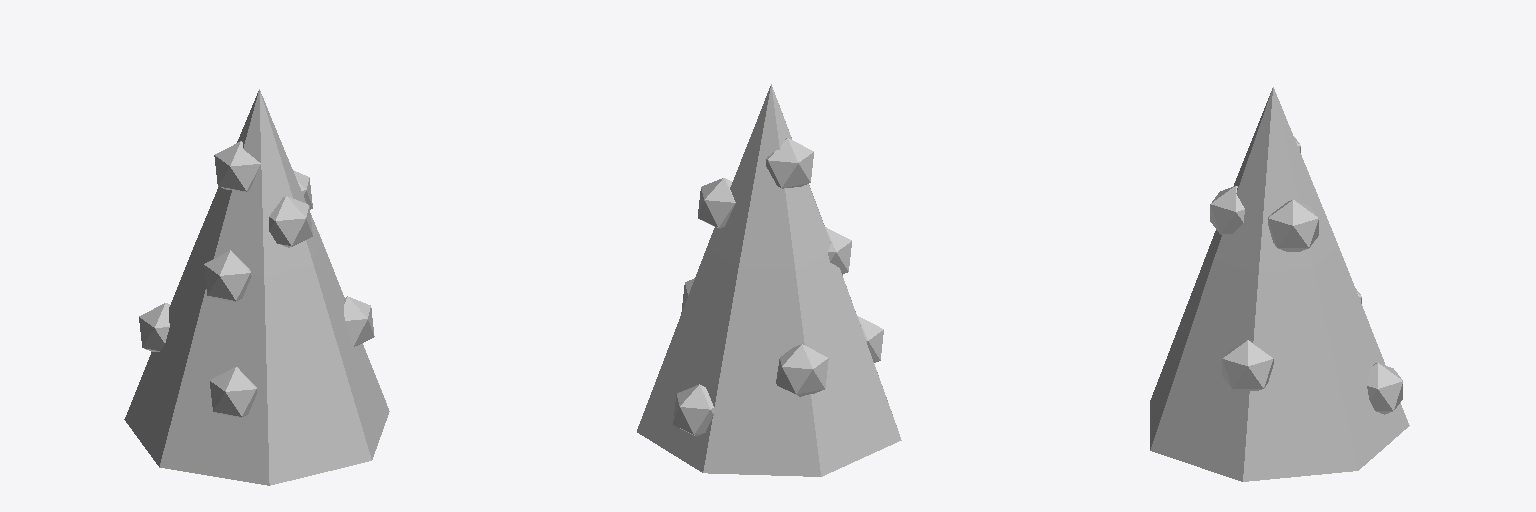
The model's file is Titanium.obj.
3 views of the same model, side by side, from view 1: azimuth 30°, elevation 25°; view 2: azimuth 150°, elevation 25°; view 3: azimuth 270°, elevation 25° (orthographic).
Visible parts, largest first — view 1: Circle, Icosphere.007; view 2: Circle, Icosphere.007; view 3: Circle, Icosphere.007.
Part boxes in pixels (x1,y1,x2,y2): Circle: (124,89,389,485); Icosphere.007: (139,141,374,417); Circle: (637,84,901,476); Icosphere.007: (673,138,883,436); Circle: (1150,87,1409,481); Icosphere.007: (1210,137,1402,414).
Size of the model in its own units: 1.95 by 2.75 by 1.9.